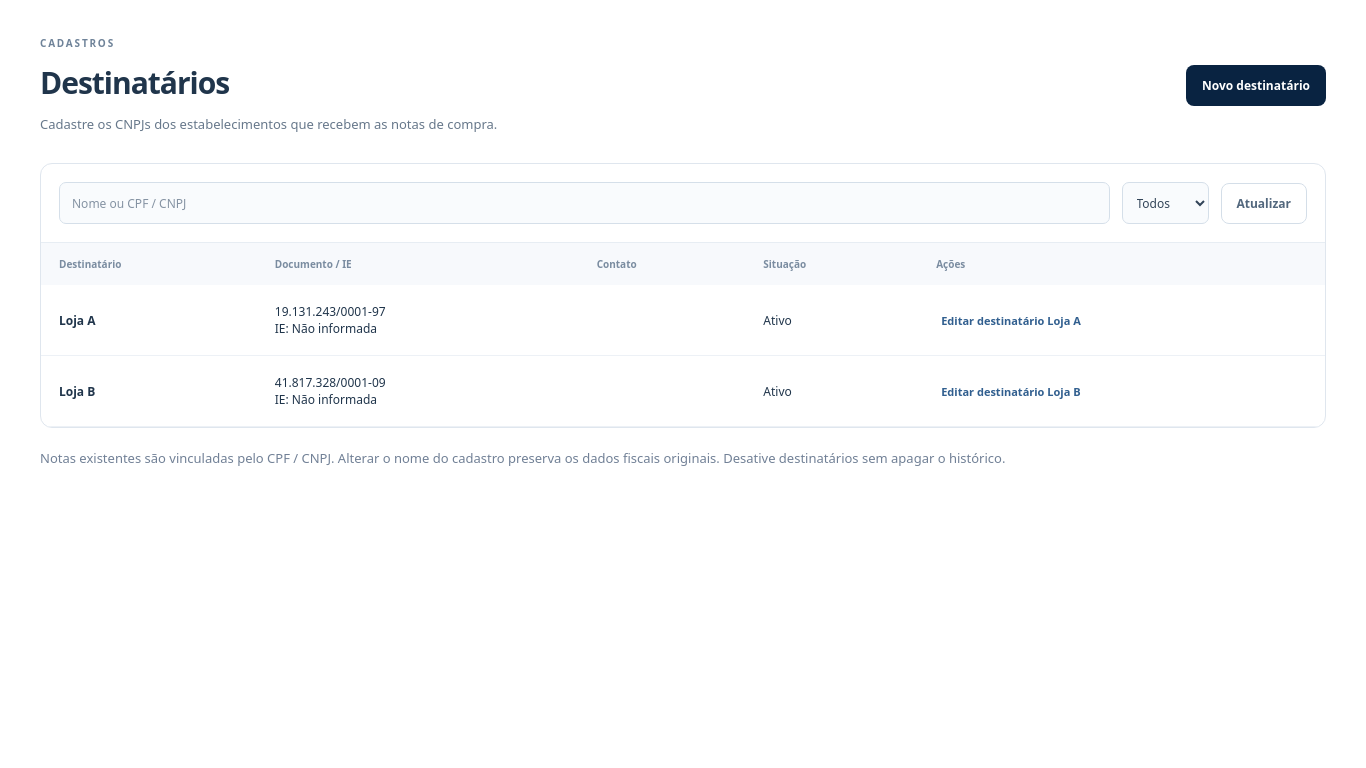
Test case: lists masked branch documents and searches by unformatted CNPJ
Expected: the text "Loja A" is shown, [59,312,96,329]
Expected: the text "19.131.243/0001-97" is shown, [275,303,386,320]
Type "41817328000109" into the field named "Buscar destinatários" at coordinates (584, 203), box [59,182,1110,224]
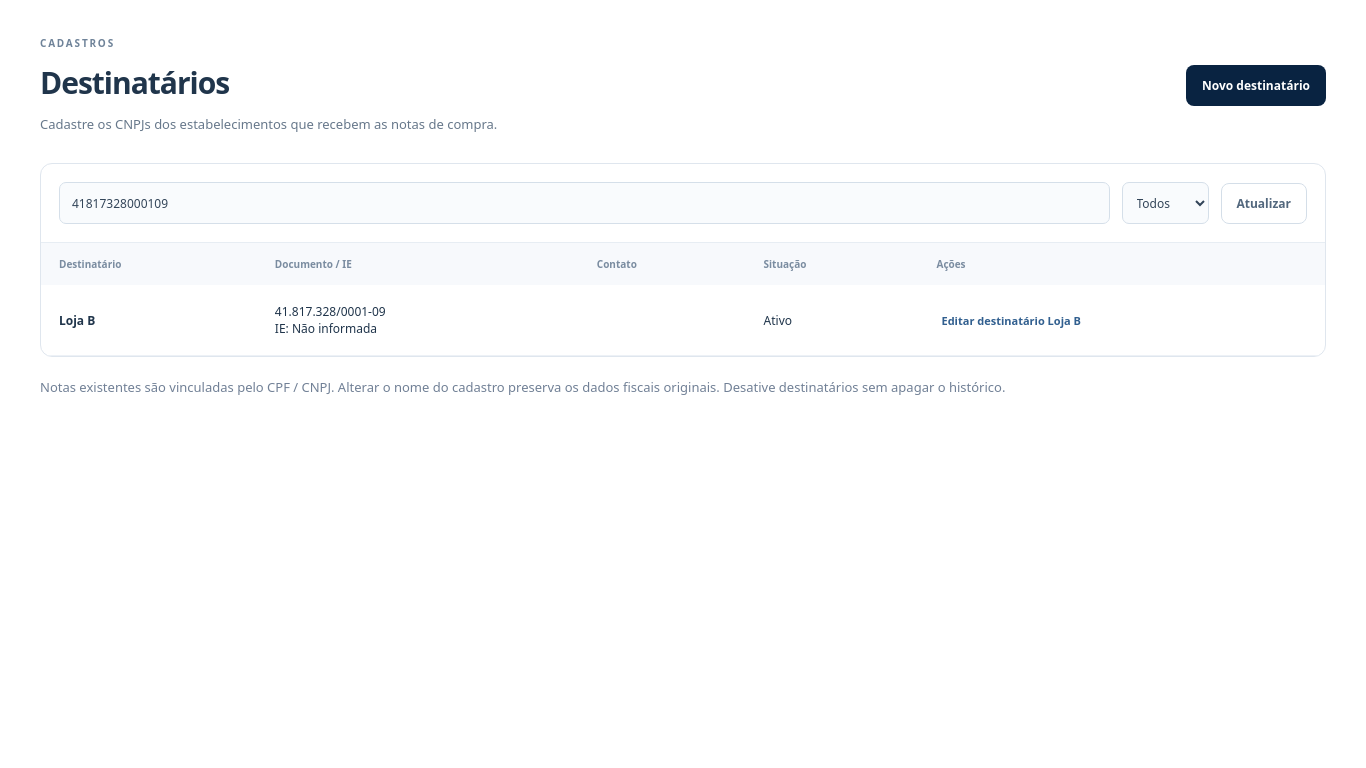
Expected: the text "Loja B" is shown, [59,312,95,329]
Now the text "Loja A" is gone
Click the button "Novo destinatário" at coordinates (1256, 86), box [1186,65,1326,106]
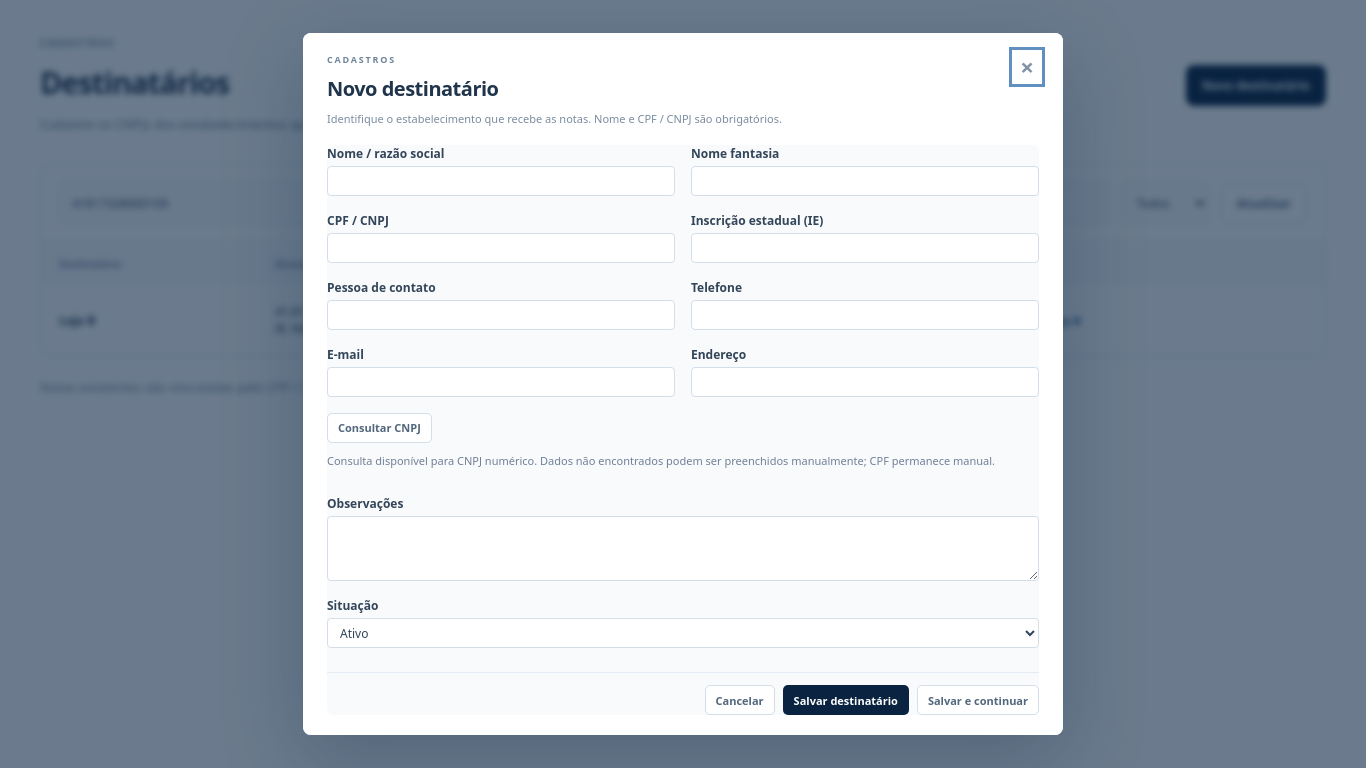
Now the dialog "Novo destinatário" is shown, box [303,33,1063,735]
